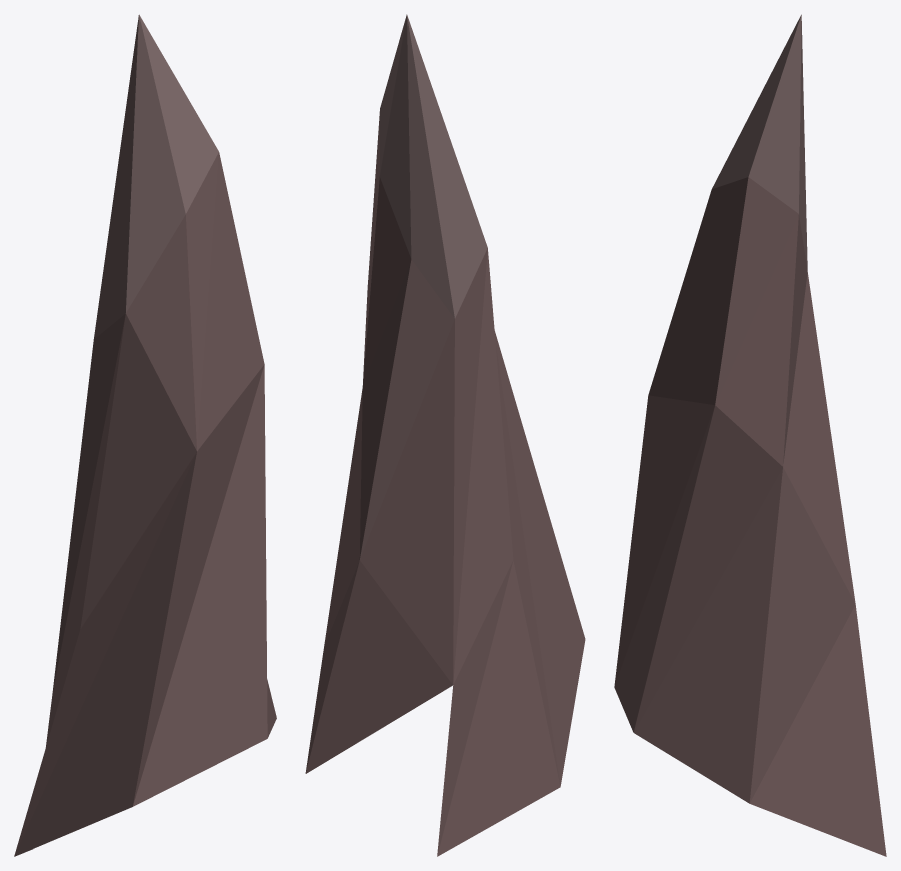
The model's file is Obj_IceShard02Mesh.FBX.
3 renders of one model, left to right at view 1: azimuth 30°, elevation 25°; view 2: azimuth 150°, elevation 25°; view 3: azimuth 270°, elevation 25°, orthographic. The views are drawn at different scales.
Parts seen in each view (by area): view 1: IceShard003; view 2: IceShard003; view 3: IceShard003.
Part boxes in pixels (x1=…): IceShard003: x1=14, y1=14, x2=276, y2=856; IceShard003: x1=305, y1=14, x2=585, y2=856; IceShard003: x1=614, y1=14, x2=886, y2=856.
Bounding box in the file's own units: 13.99 × 44.11 × 12.52.
Materials: 1 (1 with a texture image).
